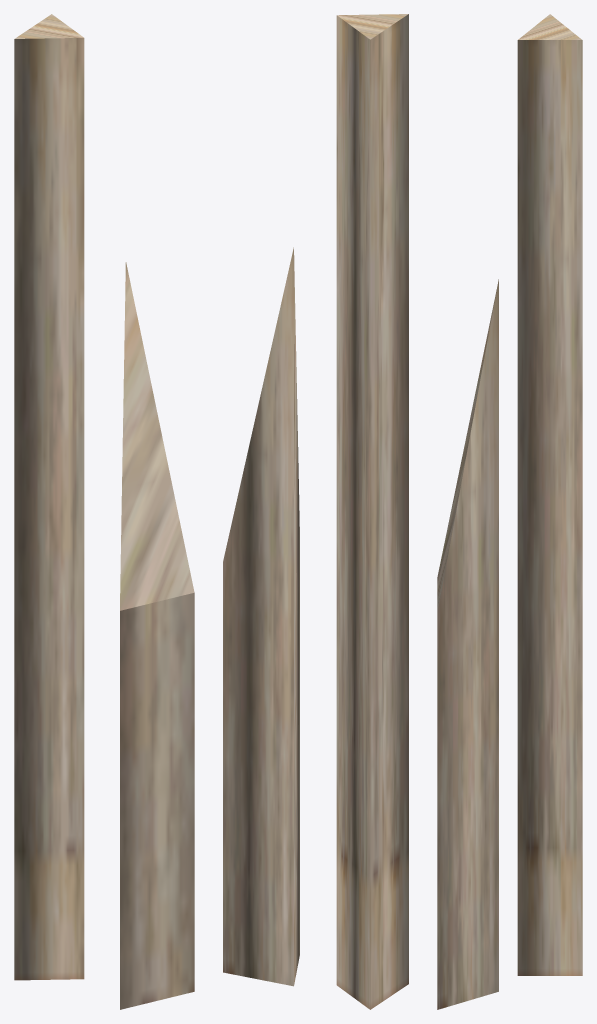
Rendered from thm_tato_debris_s02_l3.fbx.
The picture shows the model from 3 angles, left to right: view 1: azimuth 30°, elevation 25°; view 2: azimuth 210°, elevation 25°; view 3: azimuth 270°, elevation 25°; orthographic projection. The views are drawn at different scales.
Visible parts, largest first — view 1: mesh_node; view 2: mesh_node; view 3: mesh_node.
Part boxes in pixels (x1,y1,x2,y2): mesh_node: [14, 14, 194, 1009]; mesh_node: [223, 14, 408, 1009]; mesh_node: [437, 14, 582, 1009].
Bounding box in the file's own units: 0.5781 × 4.21 × 0.5913.
